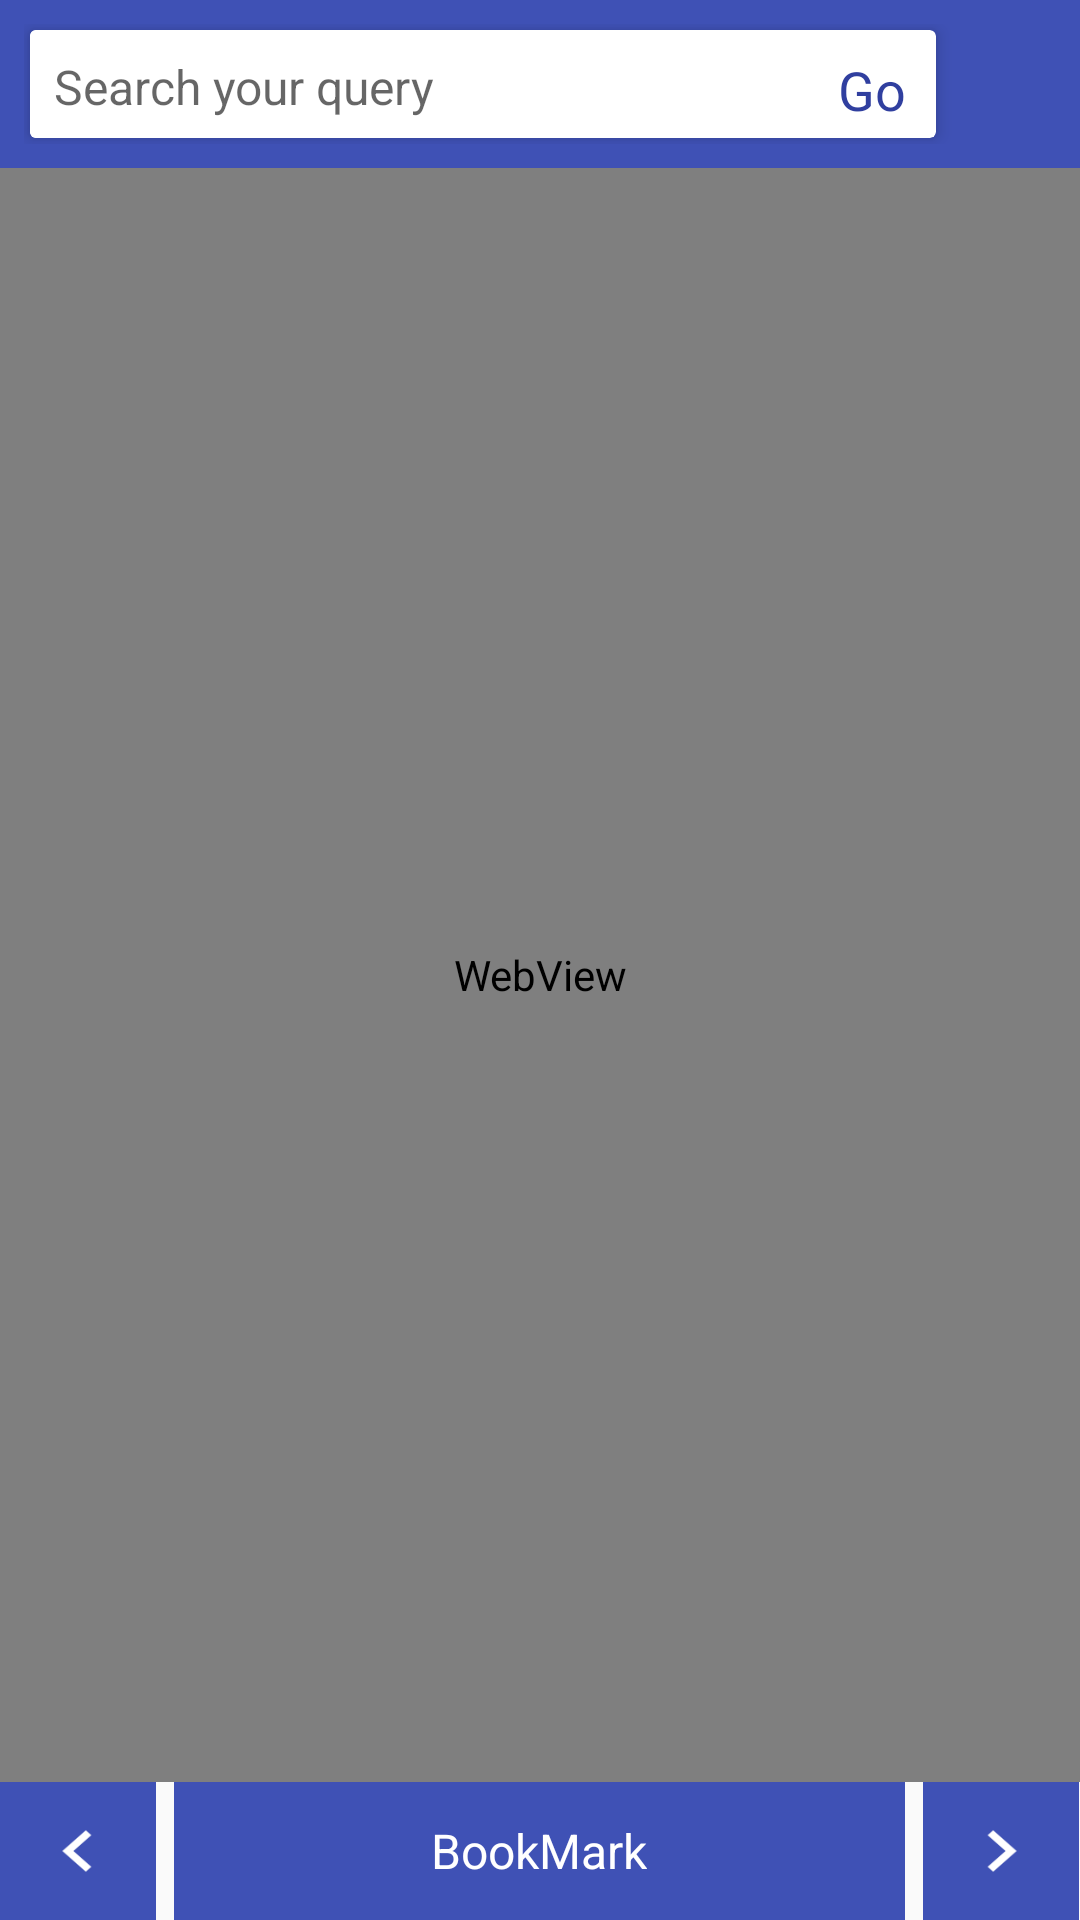

Named icons in this screenshot (1080x1920) and their centers, (x=x, y=y):
next: (x=1001, y=1851)
previous: (x=78, y=1851)
